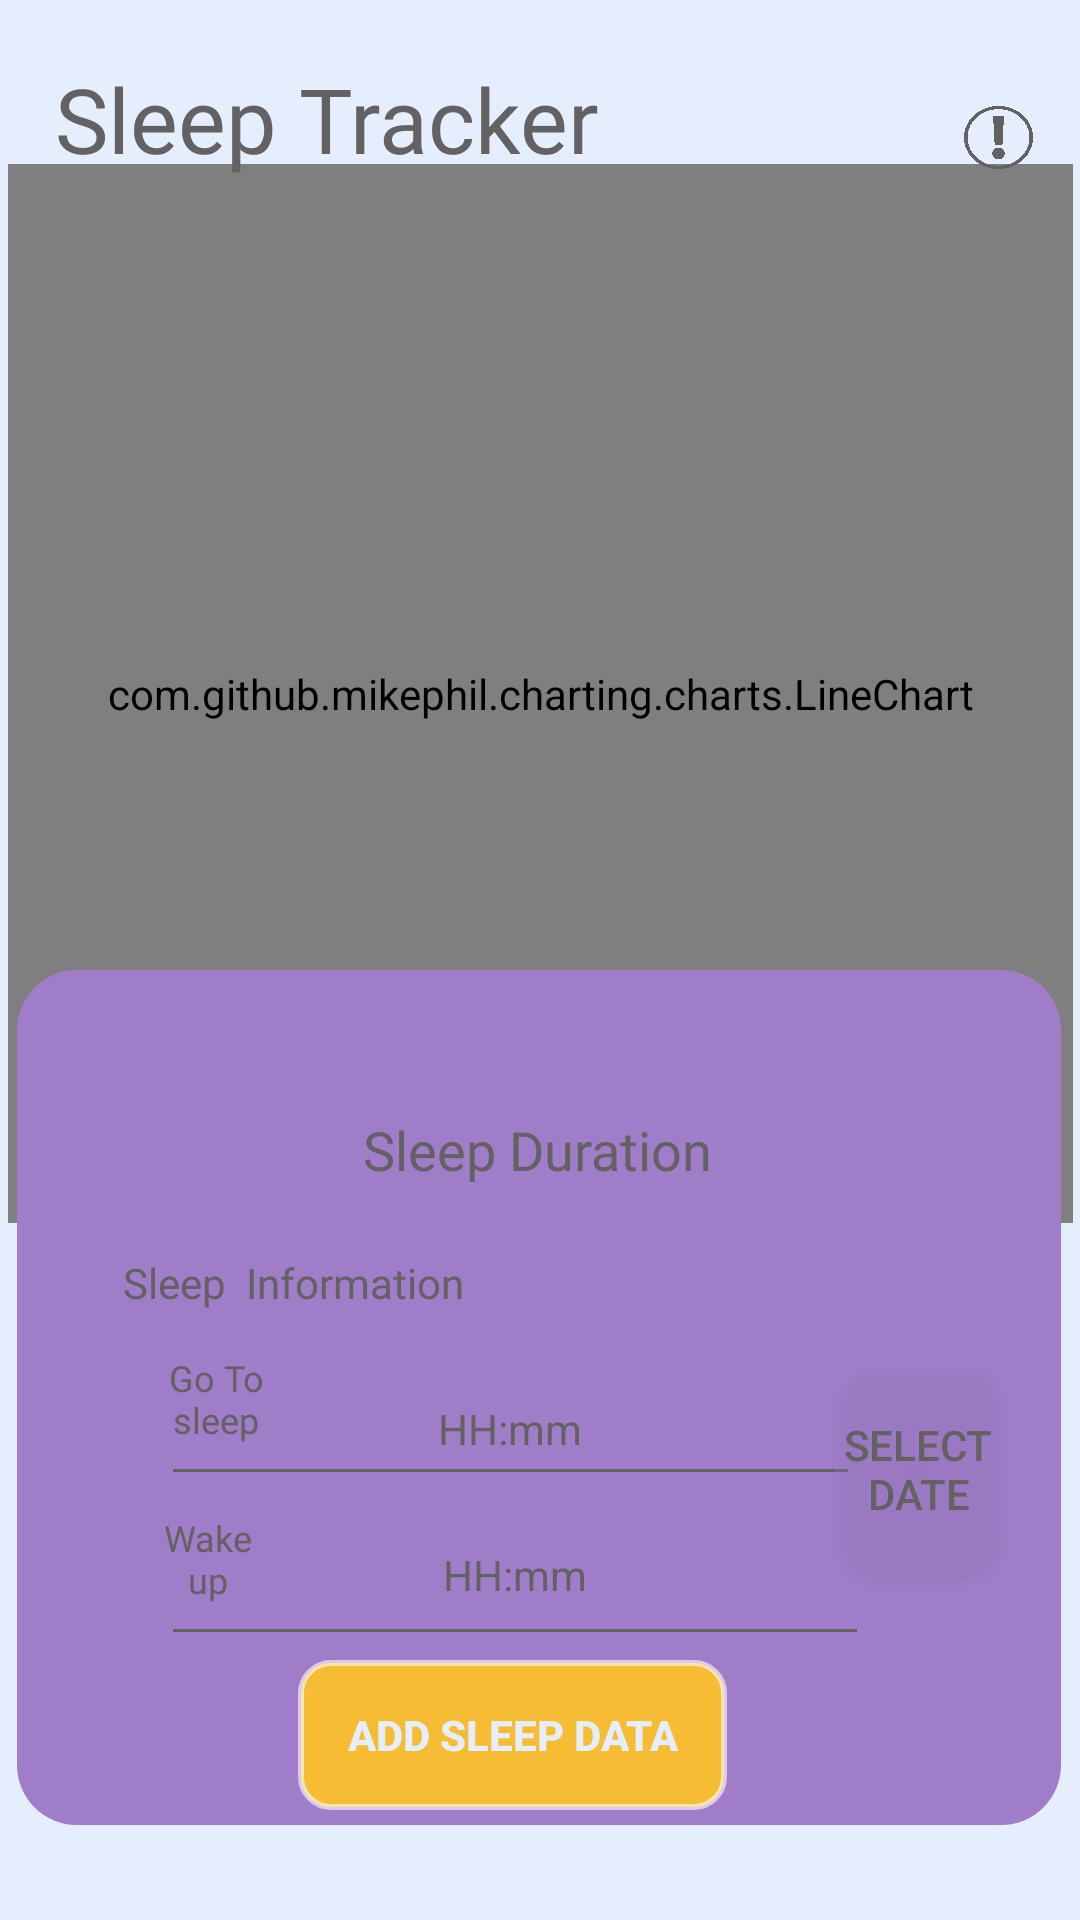

Point at icon controls on the screen. Image size 1080x1920, points as point (x, y).
exclamation marke: point (998, 137)
